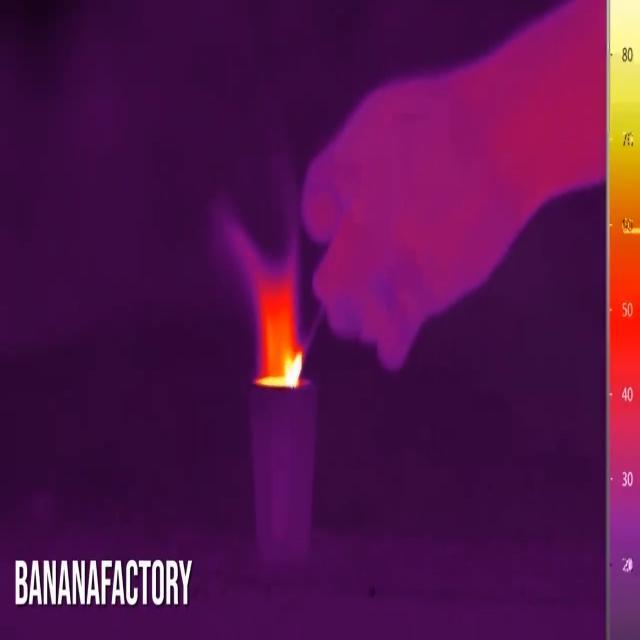fire: (256, 264, 305, 398)
